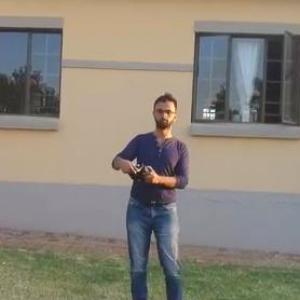follow: (105, 87, 192, 299)
